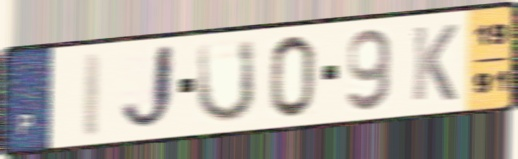0: (267, 32, 319, 121)
9: (345, 25, 393, 115)
I: (78, 49, 106, 141)
J: (116, 41, 178, 136)
K: (409, 22, 460, 104)
U: (194, 36, 258, 126)
